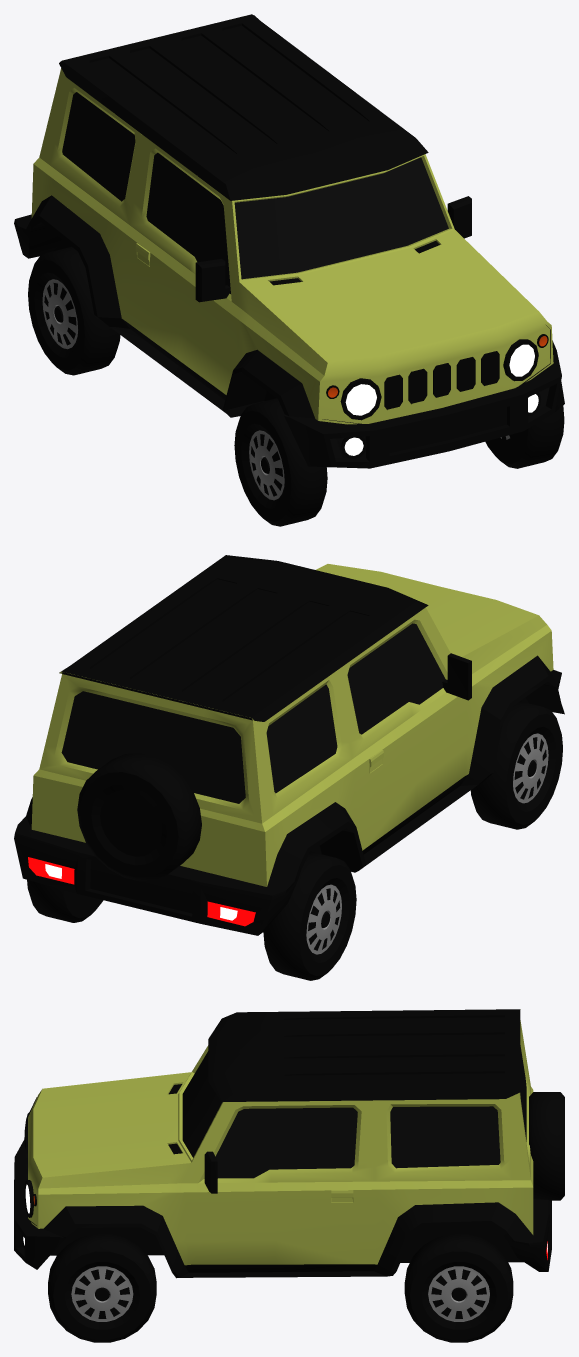
Rendered from offroad-car.glb.
3 renders of one model, top to bottom at view 1: azimuth 30°, elevation 25°; view 2: azimuth 150°, elevation 25°; view 3: azimuth 270°, elevation 25°, orthographic. The views are drawn at different scales.
Parts seen in each view (by area): view 1: Cube_5, wheel-front-left, wheel-back-left, wheel-front-right; view 2: Cube_5, Cylinder.004_4, wheel-back-left, wheel-front-left, wheel-back-right; view 3: Cube_5, wheel-back-right, wheel-front-right, Cylinder.004_4.
Part boxes in pixels (left/top/right/bottom): Cube_5: left=14, top=14, right=564, bottom=468; wheel-front-left: left=234, top=398, right=327, bottom=526; wheel-back-left: left=28, top=247, right=120, bottom=375; wheel-front-right: left=485, top=405, right=564, bottom=468; Cube_5: left=14, top=555, right=564, bottom=935; Cylinder.004_4: left=77, top=753, right=201, bottom=881; wheel-back-left: left=263, top=852, right=356, bottom=980; wheel-front-left: left=470, top=701, right=562, bottom=829; wheel-back-right: left=27, top=880, right=103, bottom=922; Cube_5: left=14, top=1009, right=551, bottom=1278; wheel-back-right: left=404, top=1233, right=513, bottom=1342; wheel-front-right: left=48, top=1233, right=156, bottom=1342; Cylinder.004_4: left=529, top=1092, right=564, bottom=1200.
Bounding box in the file's own units: 1.83 × 1.78 × 3.71.
